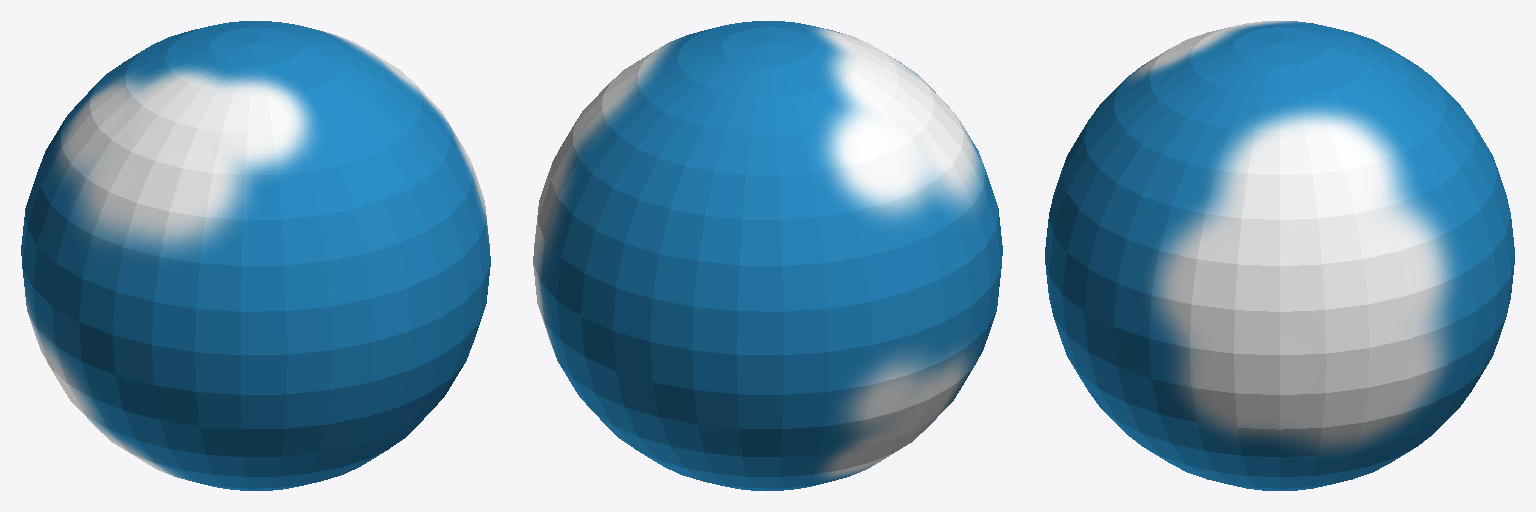
The picture shows the model from 3 angles: view 1: azimuth 30°, elevation 25°; view 2: azimuth 150°, elevation 25°; view 3: azimuth 270°, elevation 25°; orthographic projection.
Parts seen in each view (by area): view 1: Sphere; view 2: Sphere; view 3: Sphere.
Part boxes in pixels (bbox=[...]): Sphere: bbox=[21, 21, 490, 490]; Sphere: bbox=[533, 21, 1002, 490]; Sphere: bbox=[1045, 21, 1514, 490].
Size of the model in its own units: 78.78 by 78.78 by 78.78.
Materials: 1 (1 with a texture image).